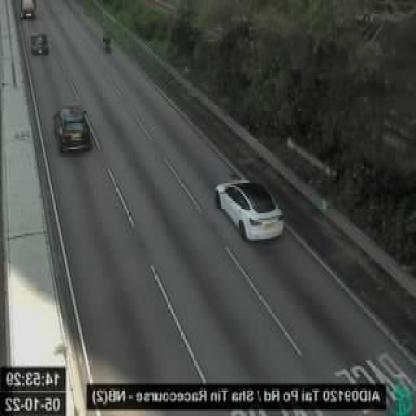Car: (216, 180, 286, 239), (53, 106, 94, 154), (30, 33, 49, 55)
